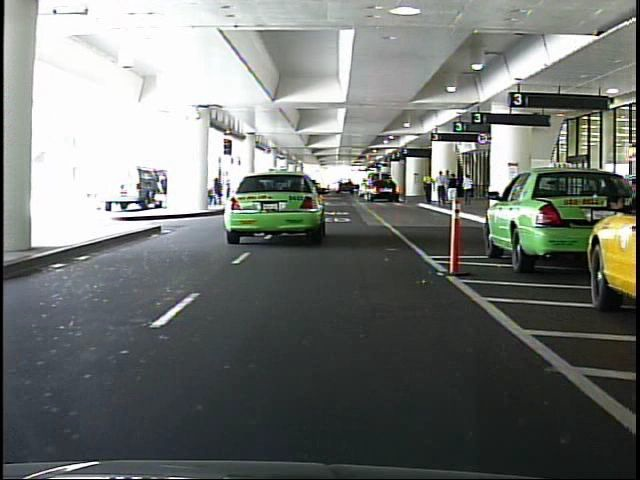person: (460, 170, 478, 211), (421, 168, 436, 209), (436, 166, 450, 209), (447, 172, 460, 213)
